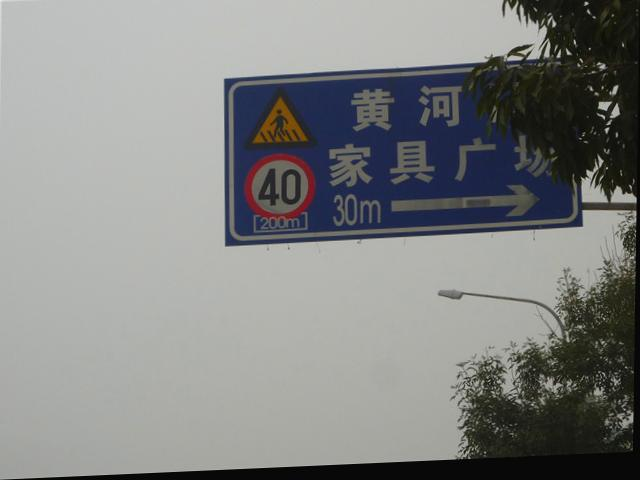limit40: (250, 155, 317, 221)
